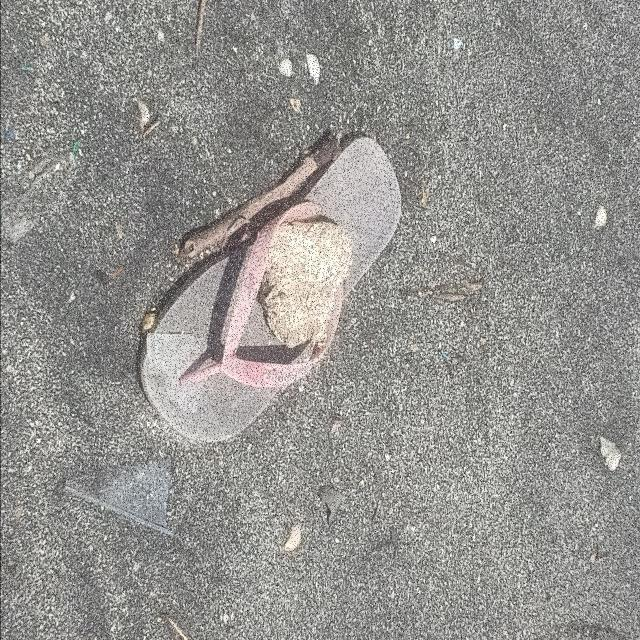rubber_waste: (138, 133, 404, 445)
